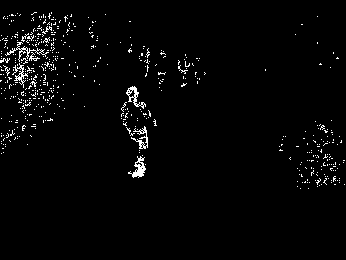person: (119, 84, 159, 181)
